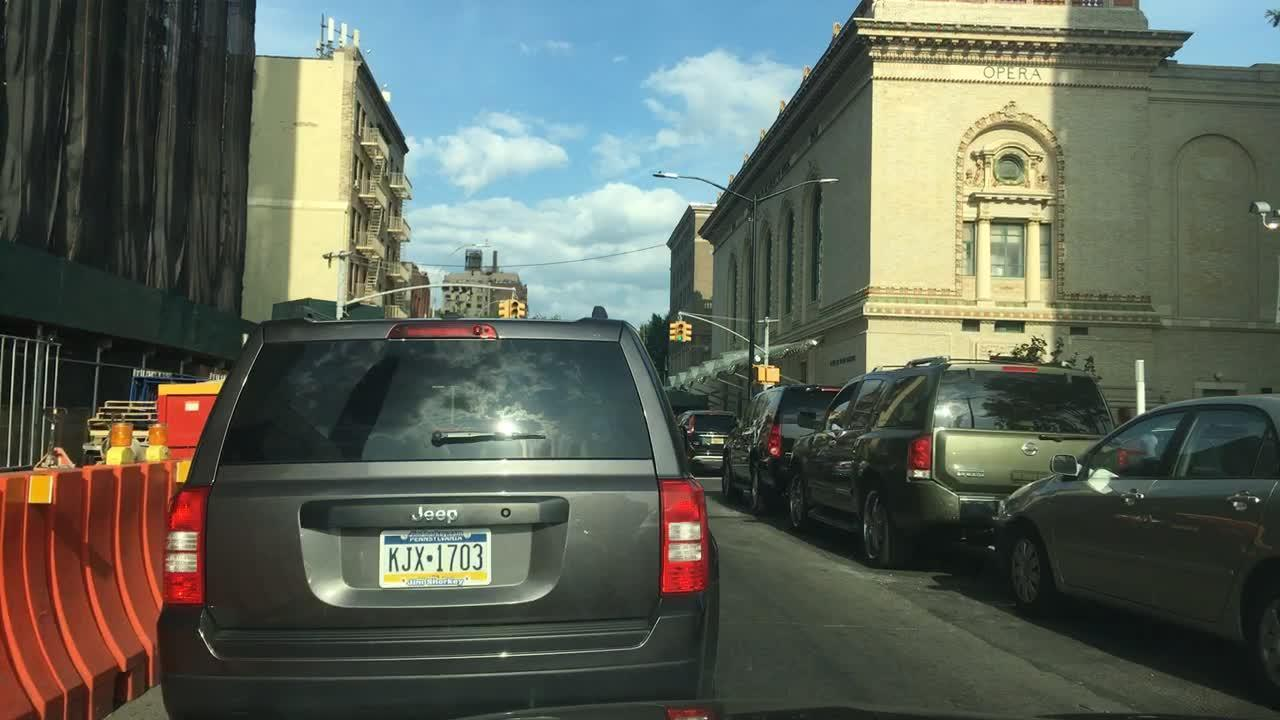Nissan: (1019, 436, 1044, 462)
jeep: (394, 499, 466, 536)
